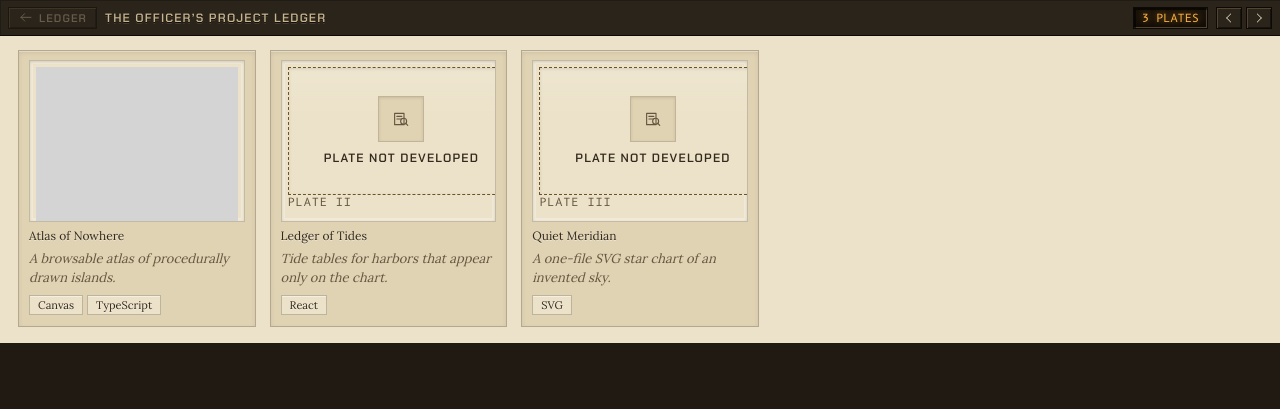
AP-6 · card → plate page → back, with wrapping pages › an unjoined slot degrades to UNFILED — never a stale accession
Click the button with aria-label "Plate III — Quiet Meridian. Open plate.": {"x": 640, "y": 188} [521,50,759,327]
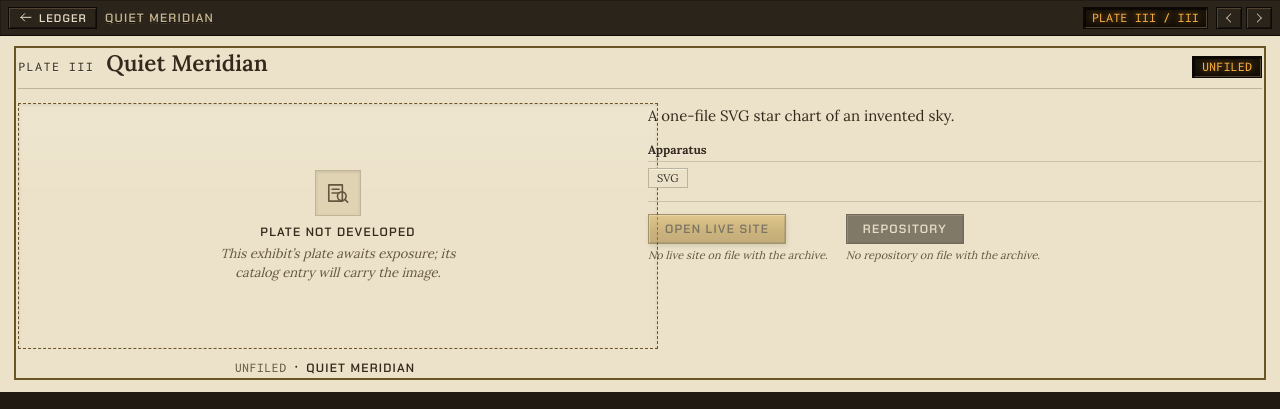
Expected: the 1st text "UNFILED" is shown, [1192,56,1262,78]
